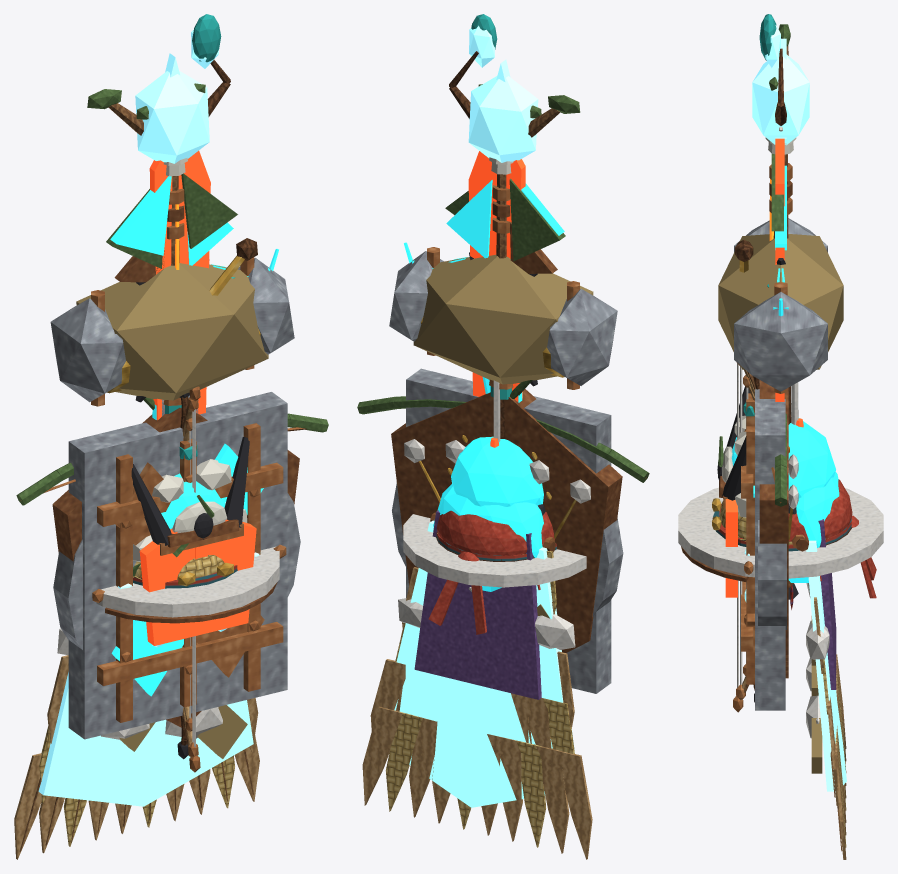
File: equipo.glb
3 renders of one model, left to right at view 1: azimuth 30°, elevation 25°; view 2: azimuth 150°, elevation 25°; view 3: azimuth 270°, elevation 25°, orthographic. The views are drawn at different scales.
Visible parts, largest first — view 1: obj_locks_shield, obj_titan_maul, obj_baru_cloud_cape, obj_palm_cape, obj_diablo_mask, obj_oak_staff, obj_sentinel_shield, obj_quetzal_spear, obj_machetero_hat, obj_pot_lid_shield, obj_ancon_orb, obj_machetero_blade (+11 smaller); view 2: obj_titan_maul, obj_palm_cape, obj_sentinel_shield, obj_baru_cloud_cape, obj_tulivieja_veil, obj_locks_shield, obj_oak_staff, obj_machetero_hat, obj_ancon_orb, obj_quetzal_spear, obj_cotton_bandana, obj_apprentice_cowl (+7 smaller); view 3: obj_titan_maul, obj_locks_shield, obj_machetero_hat, obj_oak_staff, obj_baru_cloud_cape, obj_ancon_orb, obj_pot_lid_shield, obj_sentinel_shield, obj_palm_cape, obj_diablo_mask, obj_cotton_bandana, obj_apprentice_cowl (+14 smaller).
Part boxes in pixels (box(x1,y1,x2,y2)): obj_locks_shield: box(68, 392, 287, 739); obj_titan_maul: box(50, 257, 294, 406); obj_baru_cloud_cape: box(38, 628, 253, 806); obj_palm_cape: box(14, 655, 259, 859); obj_diablo_mask: box(131, 437, 256, 645); obj_oak_staff: box(87, 70, 209, 265); obj_sentinel_shield: box(52, 407, 299, 727); obj_quetzal_spear: box(106, 173, 237, 268); obj_machetero_hat: box(96, 546, 279, 617); obj_pot_lid_shield: box(53, 474, 300, 674); obj_ancon_orb: box(161, 473, 226, 557); obj_machetero_blade: box(149, 150, 210, 420); obj_titan_maul: box(389, 247, 617, 389); obj_palm_cape: box(362, 512, 592, 859); obj_sentinel_shield: box(391, 389, 622, 652); obj_baru_cloud_cape: box(394, 513, 575, 807); obj_tulivieja_veil: box(414, 510, 541, 699); obj_locks_shield: box(406, 368, 611, 693); obj_oak_staff: box(468, 76, 580, 258); obj_machetero_hat: box(403, 514, 586, 587); obj_ancon_orb: box(447, 435, 551, 506); obj_quetzal_spear: box(445, 178, 565, 261); obj_cotton_bandana: box(428, 510, 555, 634); obj_apprentice_cowl: box(433, 484, 543, 591); obj_titan_maul: box(718, 218, 843, 393); obj_locks_shield: box(741, 389, 785, 710); obj_machetero_hat: box(678, 487, 883, 578); obj_oak_staff: box(752, 24, 809, 238); obj_baru_cloud_cape: box(792, 534, 846, 791); obj_ancon_orb: box(717, 417, 835, 498); obj_pot_lid_shield: box(744, 429, 786, 629); obj_sentinel_shield: box(747, 380, 788, 678); obj_palm_cape: box(796, 536, 846, 859); obj_diablo_mask: box(712, 386, 750, 597); obj_cotton_bandana: box(712, 479, 876, 598); obj_apprentice_cowl: box(788, 472, 839, 582).
Bounding box in the file's own units: 1.12 × 2.89 × 0.6697.
24 materials, 16 textured.
